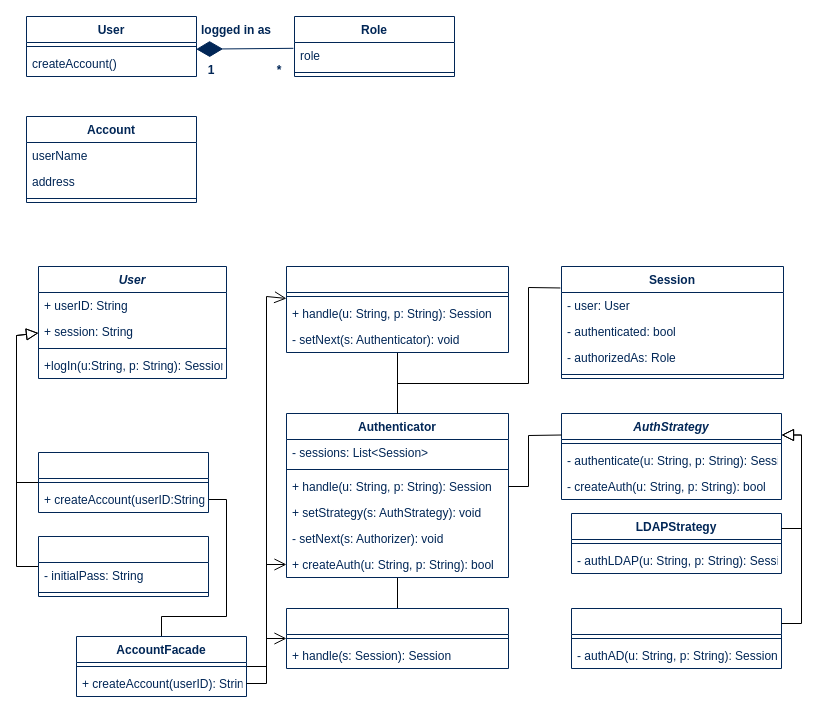
This 818x713 diagram has some shape labels left out. Each missing label, with the box of its shape:
ADStrategy: (570, 608, 782, 668)
Authorizer: (286, 608, 508, 668)
CustomerAccount: (38, 536, 208, 596)
LogIn: (286, 266, 508, 352)
UserAccount: (38, 452, 208, 512)
